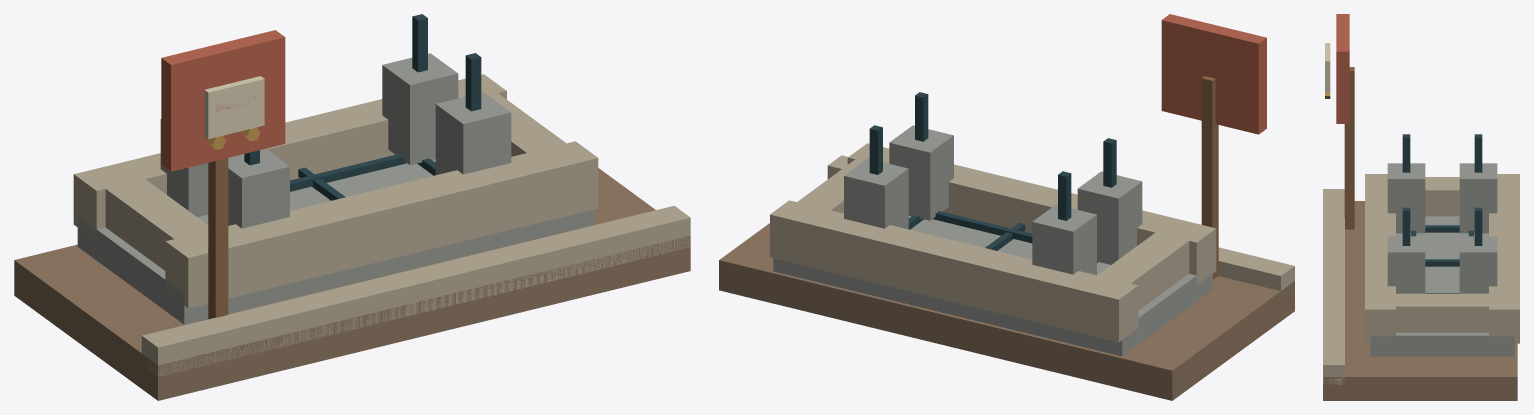
The model's file is bus-stop-foundation.glb.
3 views of the same model, side by side, from view 1: azimuth 30°, elevation 25°; view 2: azimuth 150°, elevation 25°; view 3: azimuth 270°, elevation 25° (orthographic). The views are drawn at different scales.
Visible parts, largest first — view 1: bus-stop; view 2: bus-stop; view 3: bus-stop.
Boxes of the visible parts, x1,y1,x2,y2 form: bus-stop: (14, 14, 690, 400); bus-stop: (719, 14, 1294, 400); bus-stop: (1323, 14, 1519, 400).
Size of the model in its own units: 1.88 by 1.09 by 0.89.
